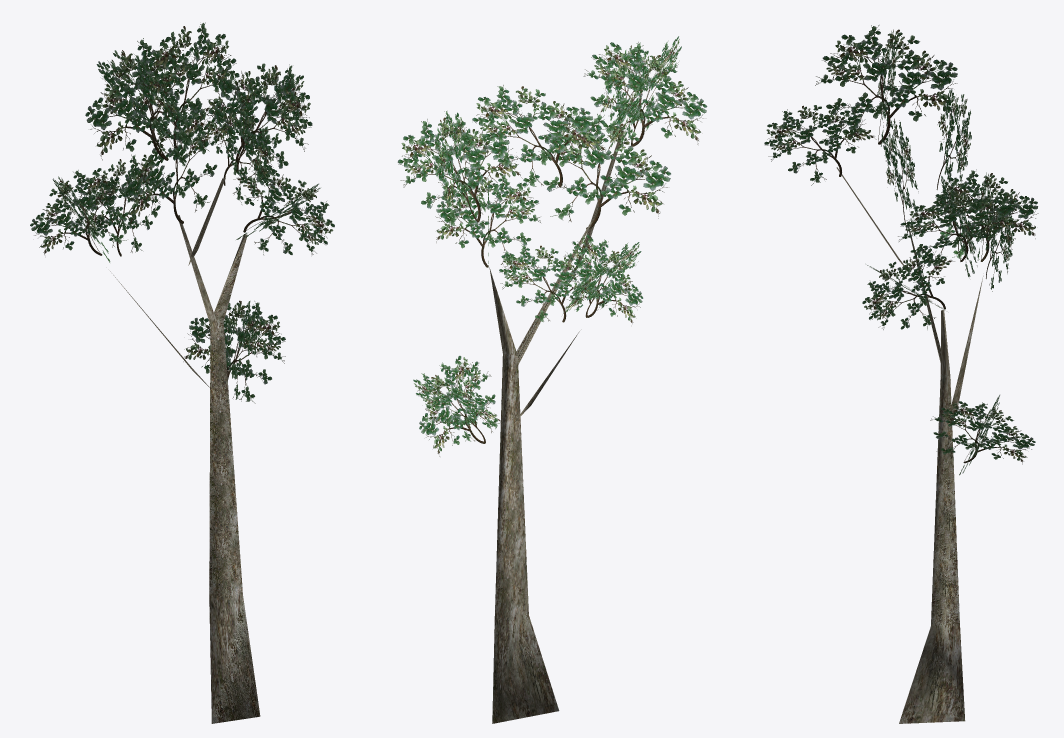
Rendered from decd_hollytreeleaves_a2_l2.fbx.
The picture shows the model from 3 angles, left to right: view 1: azimuth 30°, elevation 25°; view 2: azimuth 150°, elevation 25°; view 3: azimuth 270°, elevation 25°; orthographic projection. The views are drawn at different scales.
Parts seen in each view (by area): view 1: mesh_node; view 2: mesh_node; view 3: mesh_node.
Boxes of the visible parts, x1,y1,x2,y2 form: mesh_node: [30, 22, 334, 723]; mesh_node: [397, 36, 707, 723]; mesh_node: [764, 25, 1038, 723].
Size of the model in its own units: 7.8 by 17.82 by 7.48.
